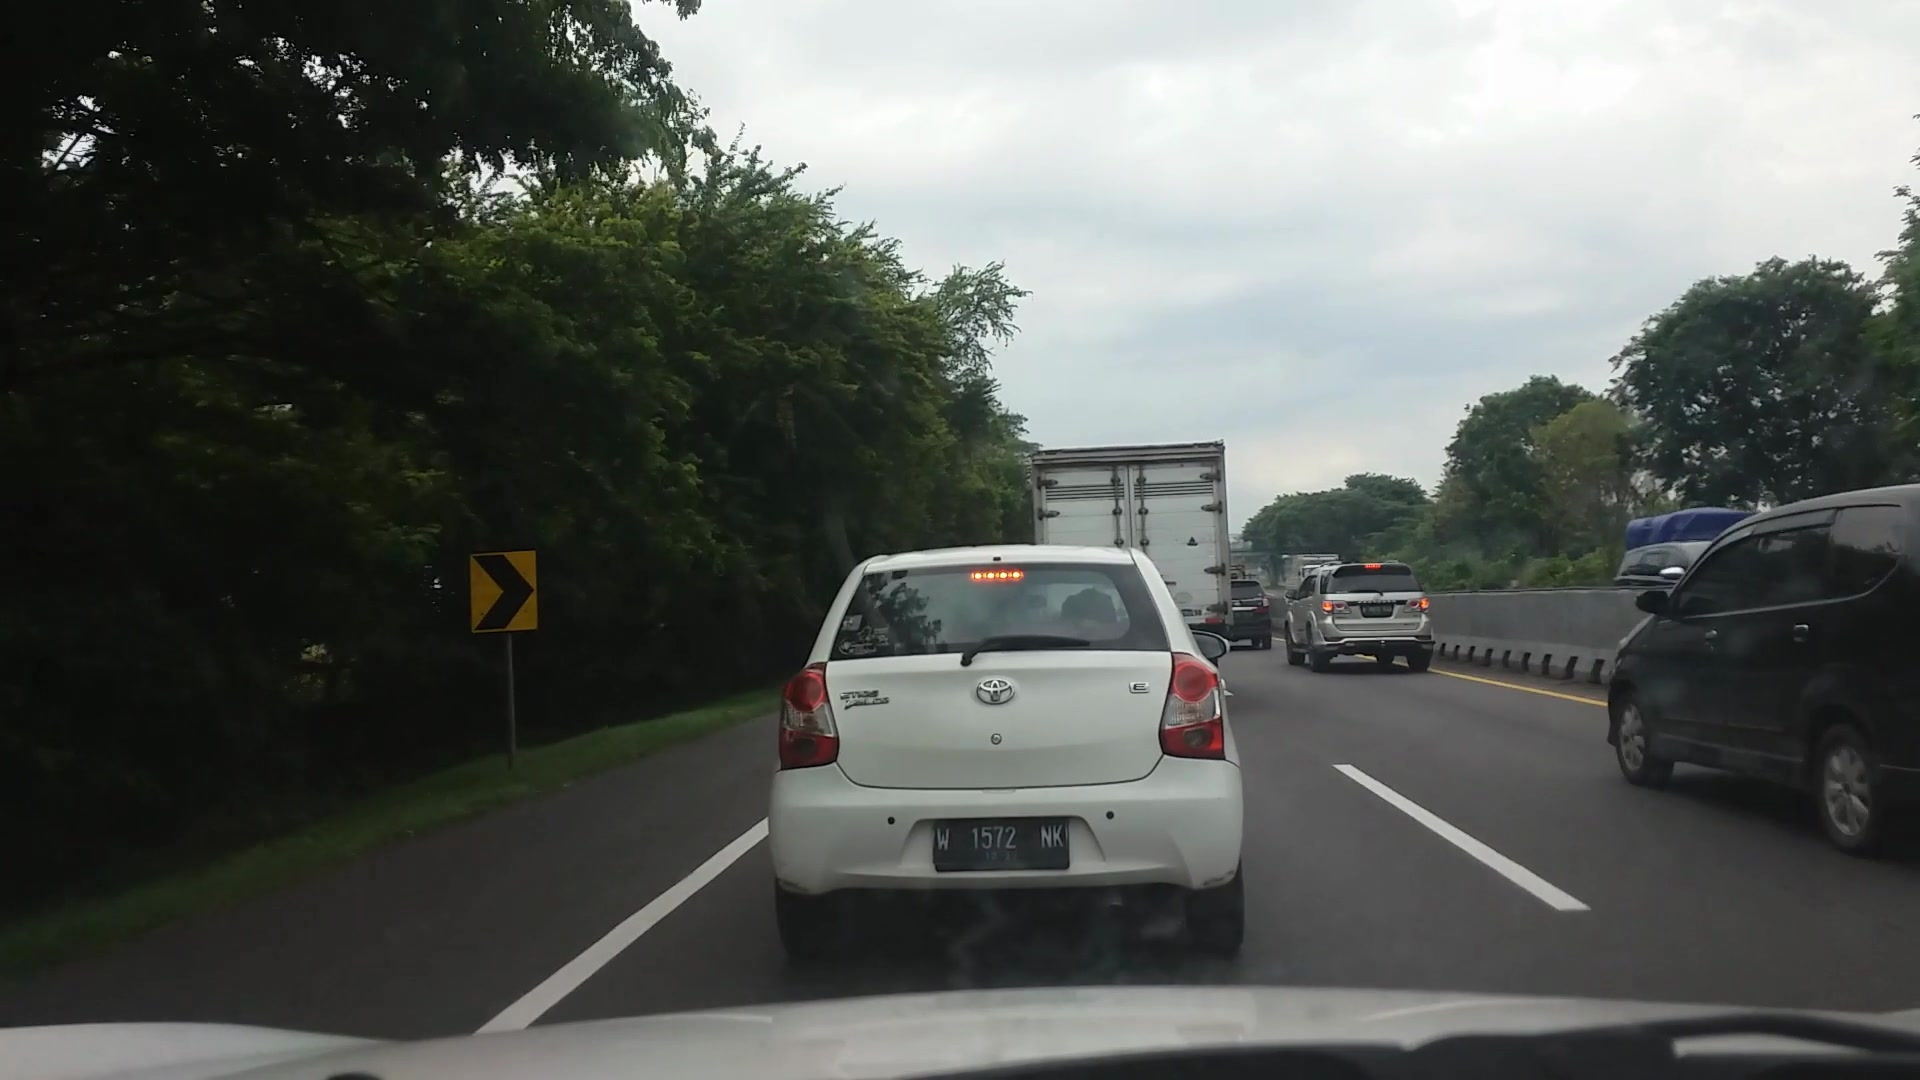plate_positive: (932, 818, 1069, 872)
